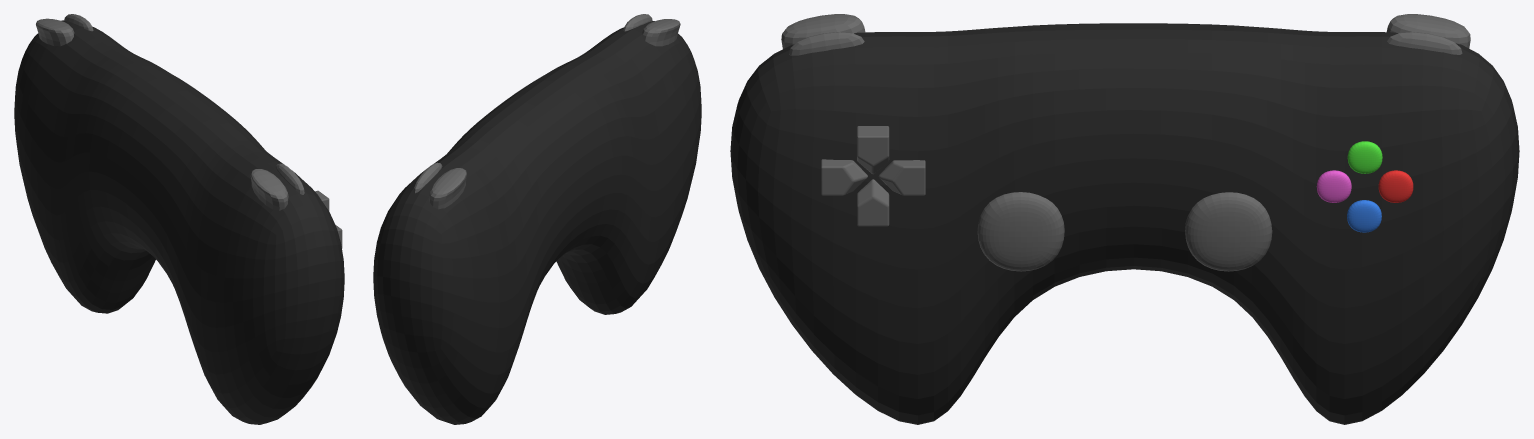
File: gamepad.gltf
3 views of the same model, side by side, from view 1: azimuth 30°, elevation 25°; view 2: azimuth 150°, elevation 25°; view 3: azimuth 270°, elevation 25° (orthographic). The views are drawn at different scales.
Visible parts, largest first — view 1: Gamepad, Cube.001, Cube.002, Cube; view 2: Gamepad, Cube.002, Cube.001, Cube.003; view 3: Gamepad, Cube.004, Cube.005, Cube.001, Cube.002, Cube.013, Cube.012, Cube.011, Cube.010, Cube, Cube.003, Cube.008 (+3 smaller).
Part boxes in pixels (x1=…): Gamepad: x1=14, y1=20, x2=344, y2=424; Cube.001: x1=250, y1=169, x2=288, y2=210; Cube.002: x1=36, y1=18, x2=74, y2=46; Cube: x1=275, y1=163, x2=304, y2=194; Gamepad: x1=373, y1=21, x2=701, y2=424; Cube.002: x1=429, y1=168, x2=466, y2=209; Cube.001: x1=642, y1=19, x2=680, y2=46; Cube.003: x1=413, y1=162, x2=442, y2=193; Gamepad: x1=730, y1=23, x2=1519, y2=424; Cube.004: x1=977, y1=192, x2=1064, y2=271; Cube.005: x1=1185, y1=192, x2=1272, y2=271; Cube.001: x1=781, y1=14, x2=865, y2=48; Cube.002: x1=1386, y1=14, x2=1470, y2=48; Cube.013: x1=821, y1=159, x2=867, y2=195; Cube.012: x1=878, y1=160, x2=925, y2=195; Cube.011: x1=857, y1=126, x2=889, y2=174; Cube.010: x1=857, y1=179, x2=889, y2=226; Cube: x1=789, y1=32, x2=864, y2=55; Cube.003: x1=1387, y1=32, x2=1462, y2=54; Cube.008: x1=1378, y1=170, x2=1413, y2=202.
Size of the model in its own units: 7.12 by 16.67 by 30.58.
